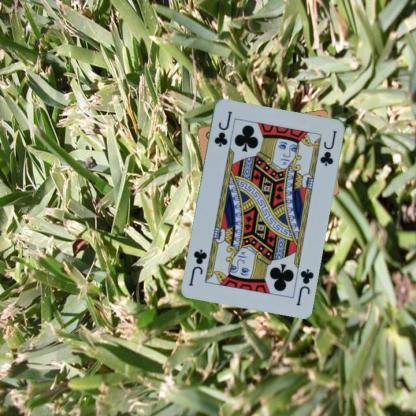Jc: (293, 266, 315, 307), (211, 108, 233, 148)
